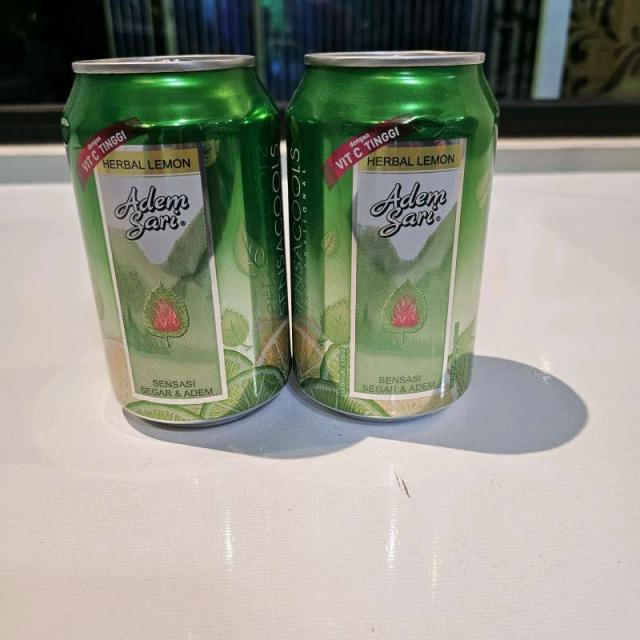ademsarikaleng: (59, 52, 290, 430), (284, 49, 500, 424)
